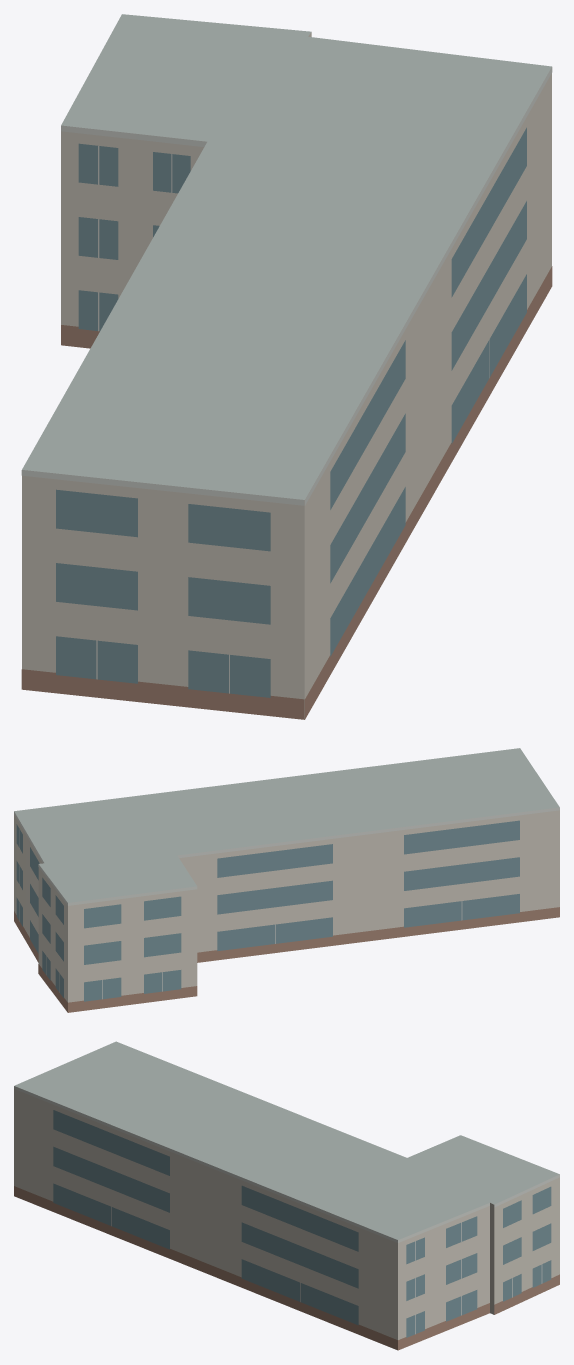
File: survey-upis-32796102.glb
The picture shows the model from 3 angles, top to bottom: view 1: azimuth 30°, elevation 25°; view 2: azimuth 150°, elevation 25°; view 3: azimuth 270°, elevation 25°; orthographic projection. The views are drawn at different scales.
Visible parts, largest first — view 1: survey-upis-32796102.tmp; view 2: survey-upis-32796102.tmp; view 3: survey-upis-32796102.tmp.
Part boxes in pixels (x1,y1,x2,y2): survey-upis-32796102.tmp: (21, 14, 552, 719); survey-upis-32796102.tmp: (14, 748, 559, 1012); survey-upis-32796102.tmp: (14, 1041, 559, 1350).
Size of the model in its own units: 35.34 by 9.15 by 41.03.
